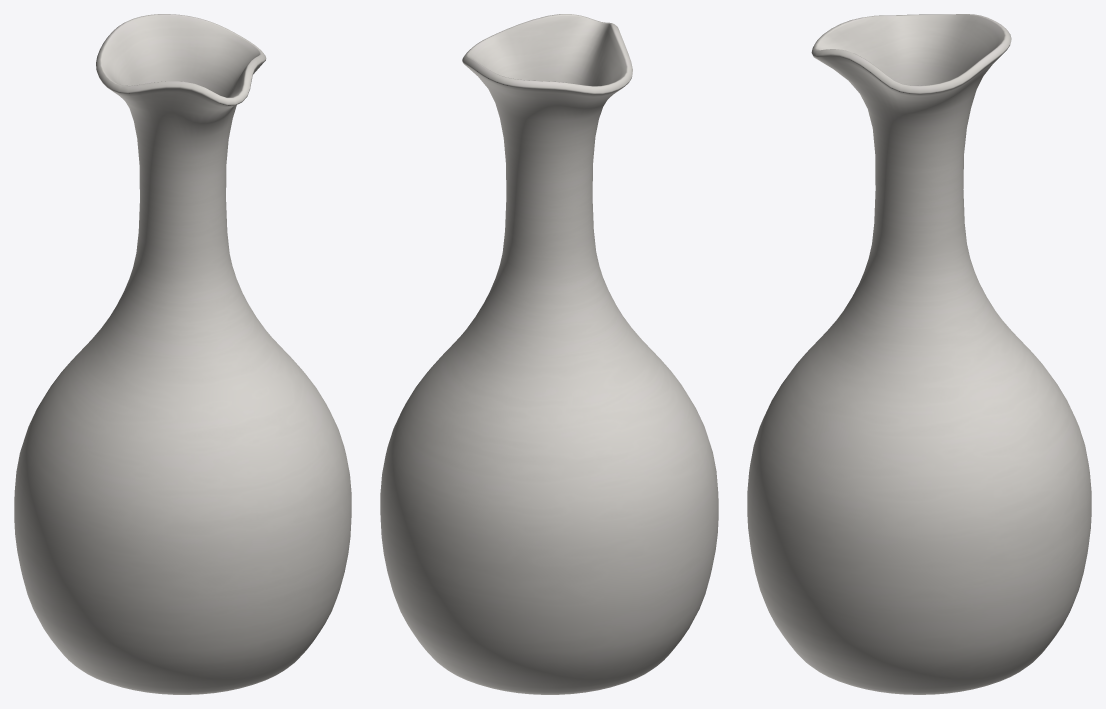
Rendered from 1746100811831_AR-Code-1674894368380.glb.
The picture shows the model from 3 angles, left to right: view 1: azimuth 30°, elevation 25°; view 2: azimuth 150°, elevation 25°; view 3: azimuth 270°, elevation 25°; orthographic projection. The views are drawn at different scales.
Parts seen in each view (by area): view 1: ceramic_vase_01; view 2: ceramic_vase_01; view 3: ceramic_vase_01.
Boxes of the visible parts, x1,y1,x2,y2 form: ceramic_vase_01: [14, 14, 351, 694]; ceramic_vase_01: [380, 14, 718, 694]; ceramic_vase_01: [747, 14, 1091, 694].
Bounding box in the file's own units: 0.2036 × 0.4003 × 0.2036.
1 material, 1 textured.
